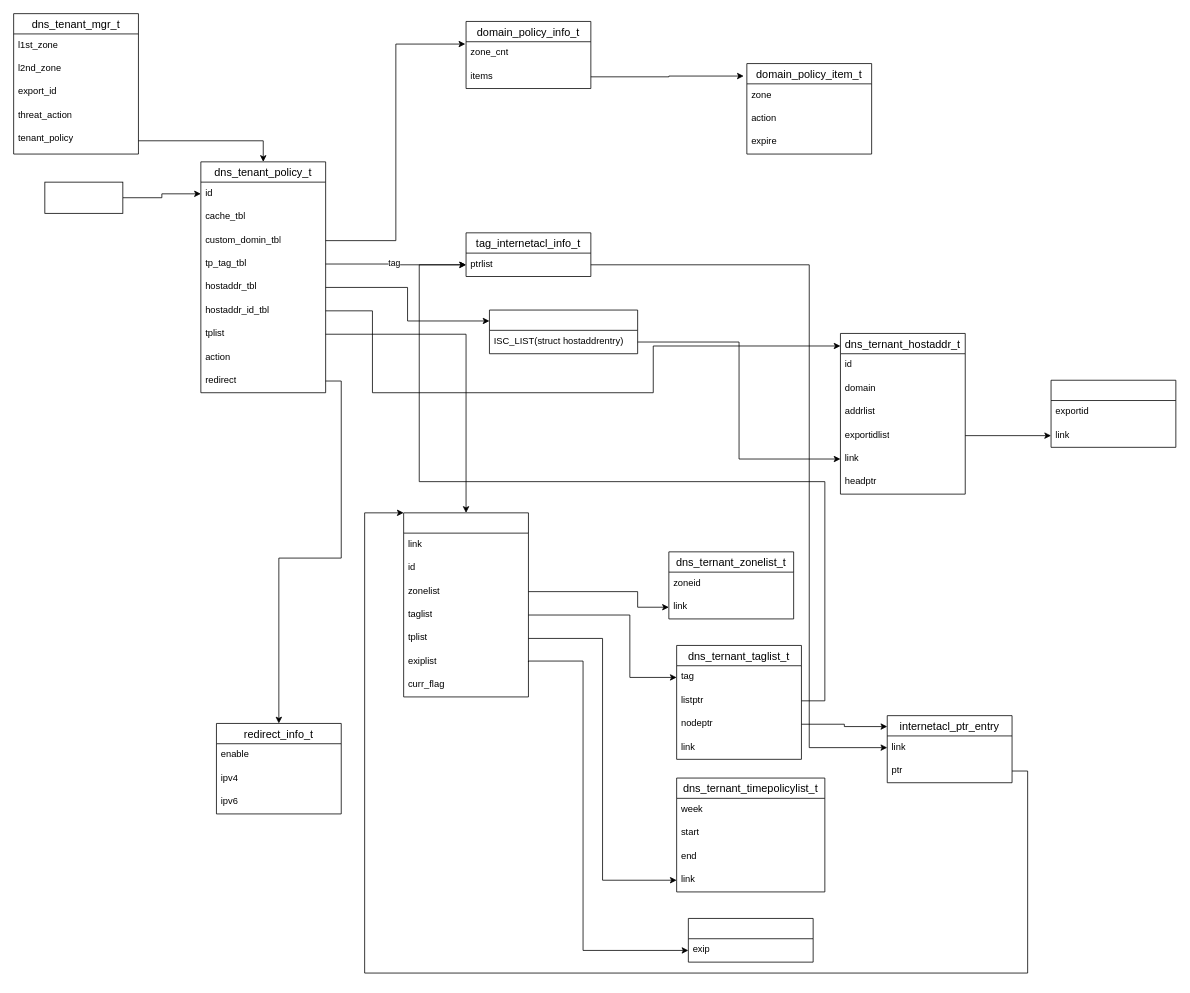
Image size: 1190x993. Some labels were removed from this diagram. Each missing label, with the box of its shape:
dns_ternant_hostaddrlist_t: (489, 309, 638, 354)
dns_ternant_internetacl_t: (403, 512, 528, 697)
exipentry: (688, 918, 813, 962)
exportidentry: (1050, 379, 1176, 447)
g_tenant_rbt: (44, 181, 123, 213)
